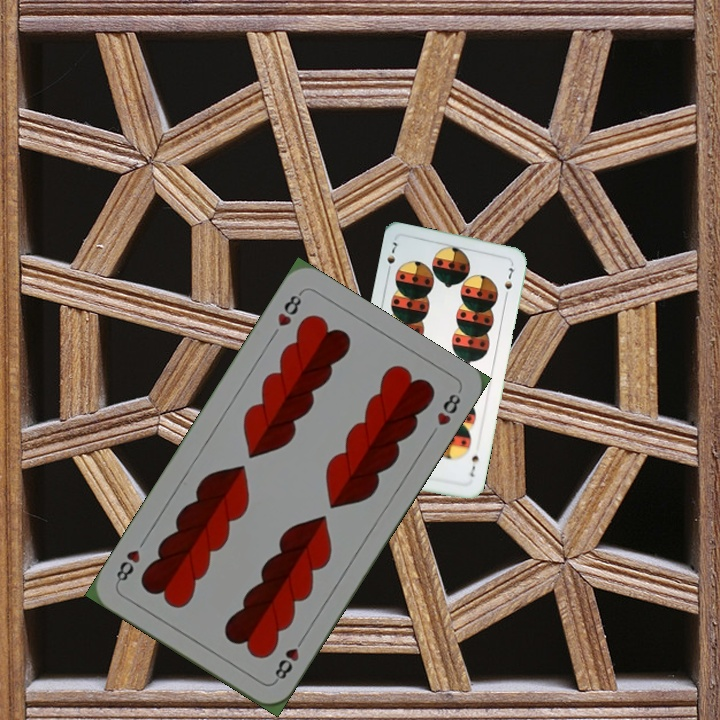H8: (270, 632, 308, 685), (273, 288, 305, 330)
S7: (383, 238, 401, 277), (466, 449, 481, 480)
